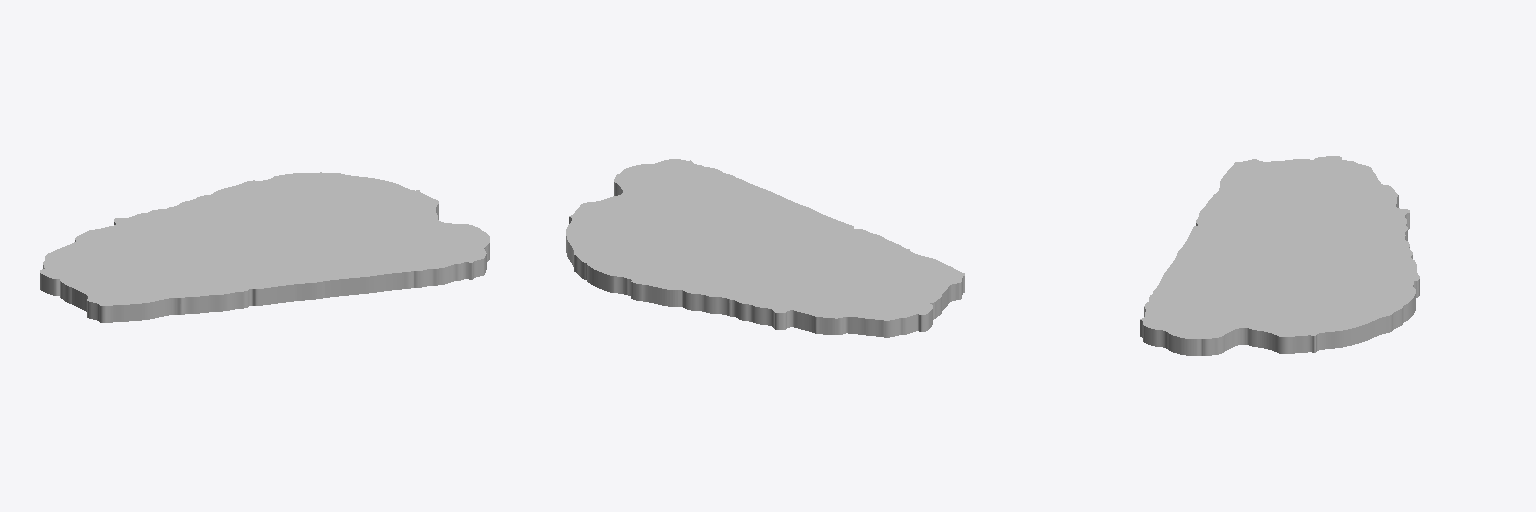
The model's file is rosbif.obj.
3 views of the same model, side by side, from view 1: azimuth 30°, elevation 25°; view 2: azimuth 150°, elevation 25°; view 3: azimuth 270°, elevation 25° (orthographic).
Parts seen in each view (by area): view 1: Curve_CUCurve; view 2: Curve_CUCurve; view 3: Curve_CUCurve.
Part boxes in pixels (left/top/right/bottom): Curve_CUCurve: left=40, top=172, right=489, bottom=322; Curve_CUCurve: left=566, top=159, right=964, bottom=337; Curve_CUCurve: left=1140, top=156, right=1419, bottom=355.
Bounding box in the file's own units: 1.82 × 0.0783 × 1.17.